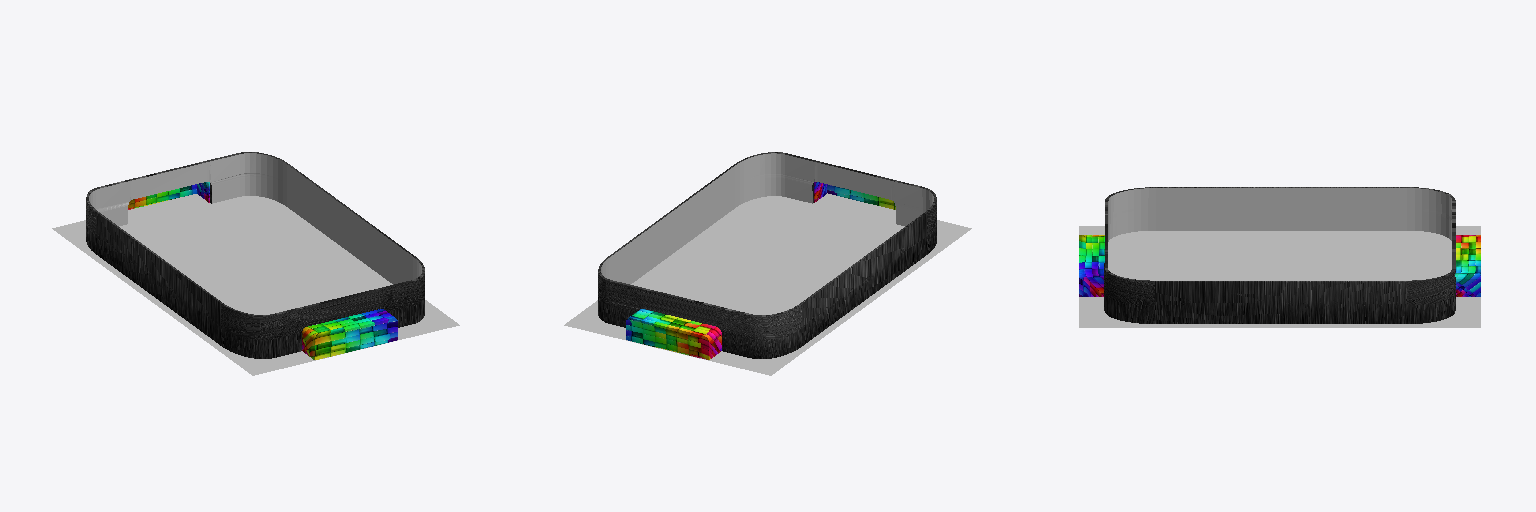
3 views of the same model, side by side, from view 1: azimuth 30°, elevation 25°; view 2: azimuth 150°, elevation 25°; view 3: azimuth 270°, elevation 25° (orthographic).
Parts seen in each view (by area): view 1: wall_Cube.001, Ground_Plane, Goal2_Cube.002, Goal1_Cube.003; view 2: wall_Cube.001, Ground_Plane, Goal1_Cube.003, Goal2_Cube.002; view 3: wall_Cube.001, Ground_Plane, Goal2_Cube.002, Goal1_Cube.003.
Part boxes in pixels (x1,y1,x2,y2): wall_Cube.001: (86,152,424,358); Ground_Plane: (52,194,459,375); Goal2_Cube.002: (302,309,397,359); Goal1_Cube.003: (128,182,209,209); wall_Cube.001: (598,152,936,358); Ground_Plane: (564,193,971,375); Goal1_Cube.003: (626,309,721,359); Goal2_Cube.002: (814,182,895,209); wall_Cube.001: (1104,187,1455,323); Ground_Plane: (1079,226,1480,327); Goal2_Cube.002: (1079,235,1104,296); Goal1_Cube.003: (1455,235,1480,296).
Bounding box in the file's own units: 15 × 3 × 25.2.
Materials: 6 (2 with a texture image).